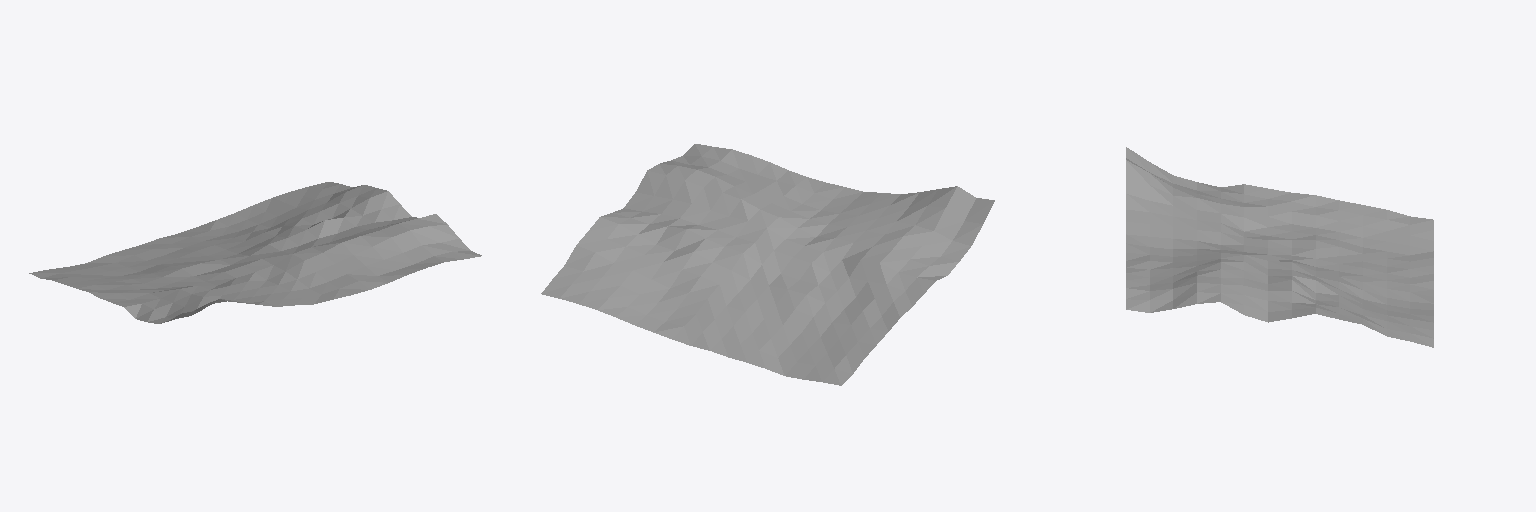
Rendered from SALDES_esllavissada_03.obj.
3 views of the same model, side by side, from view 1: azimuth 30°, elevation 25°; view 2: azimuth 150°, elevation 25°; view 3: azimuth 270°, elevation 25° (orthographic).
Parts seen in each view (by area): view 1: inter_MetElipResi_2_inter_MetElipResi_2.001; view 2: inter_MetElipResi_2_inter_MetElipResi_2.001; view 3: inter_MetElipResi_2_inter_MetElipResi_2.001.
Boxes of the visible parts, x1,y1,x2,y2 form: inter_MetElipResi_2_inter_MetElipResi_2.001: [29, 182, 481, 323]; inter_MetElipResi_2_inter_MetElipResi_2.001: [541, 144, 994, 385]; inter_MetElipResi_2_inter_MetElipResi_2.001: [1126, 147, 1433, 347].
Size of the model in its own units: 21.95 by 5.73 by 19.48.